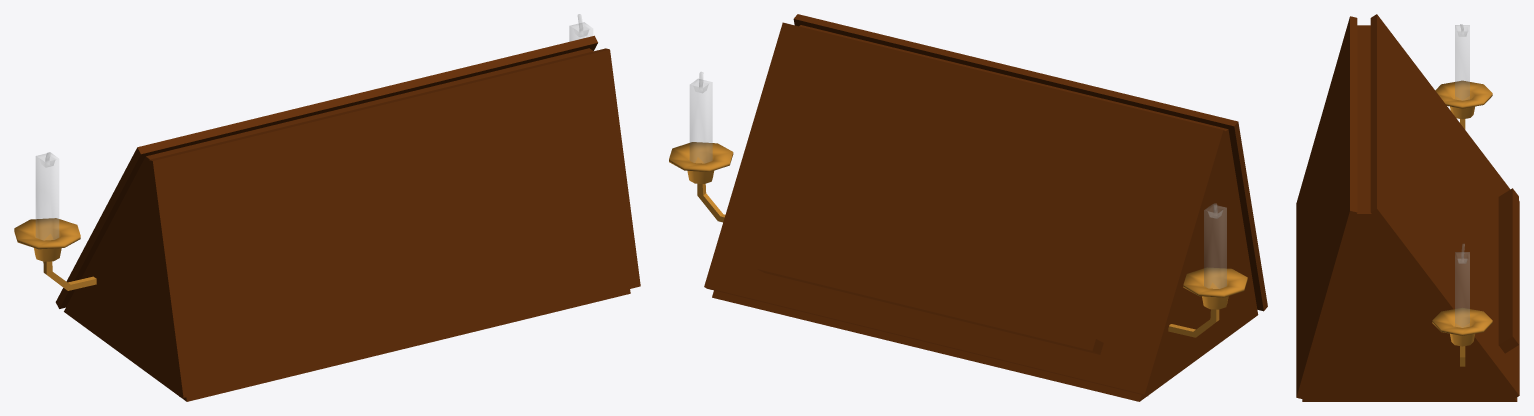
The model's file is lectern.obj.
3 renders of one model, left to right at view 1: azimuth 30°, elevation 25°; view 2: azimuth 150°, elevation 25°; view 3: azimuth 270°, elevation 25°, orthographic. The views are drawn at different scales.
Visible parts, largest first — view 1: Desk_Cube.030; view 2: Desk_Cube.030; view 3: Desk_Cube.030.
Part boxes in pixels (x1,y1,x2,y2): Desk_Cube.030: [14, 14, 640, 401]; Desk_Cube.030: [669, 14, 1267, 401]; Desk_Cube.030: [1296, 14, 1519, 401].
Size of the model in its own units: 1.6 by 0.5808 by 0.5983.
